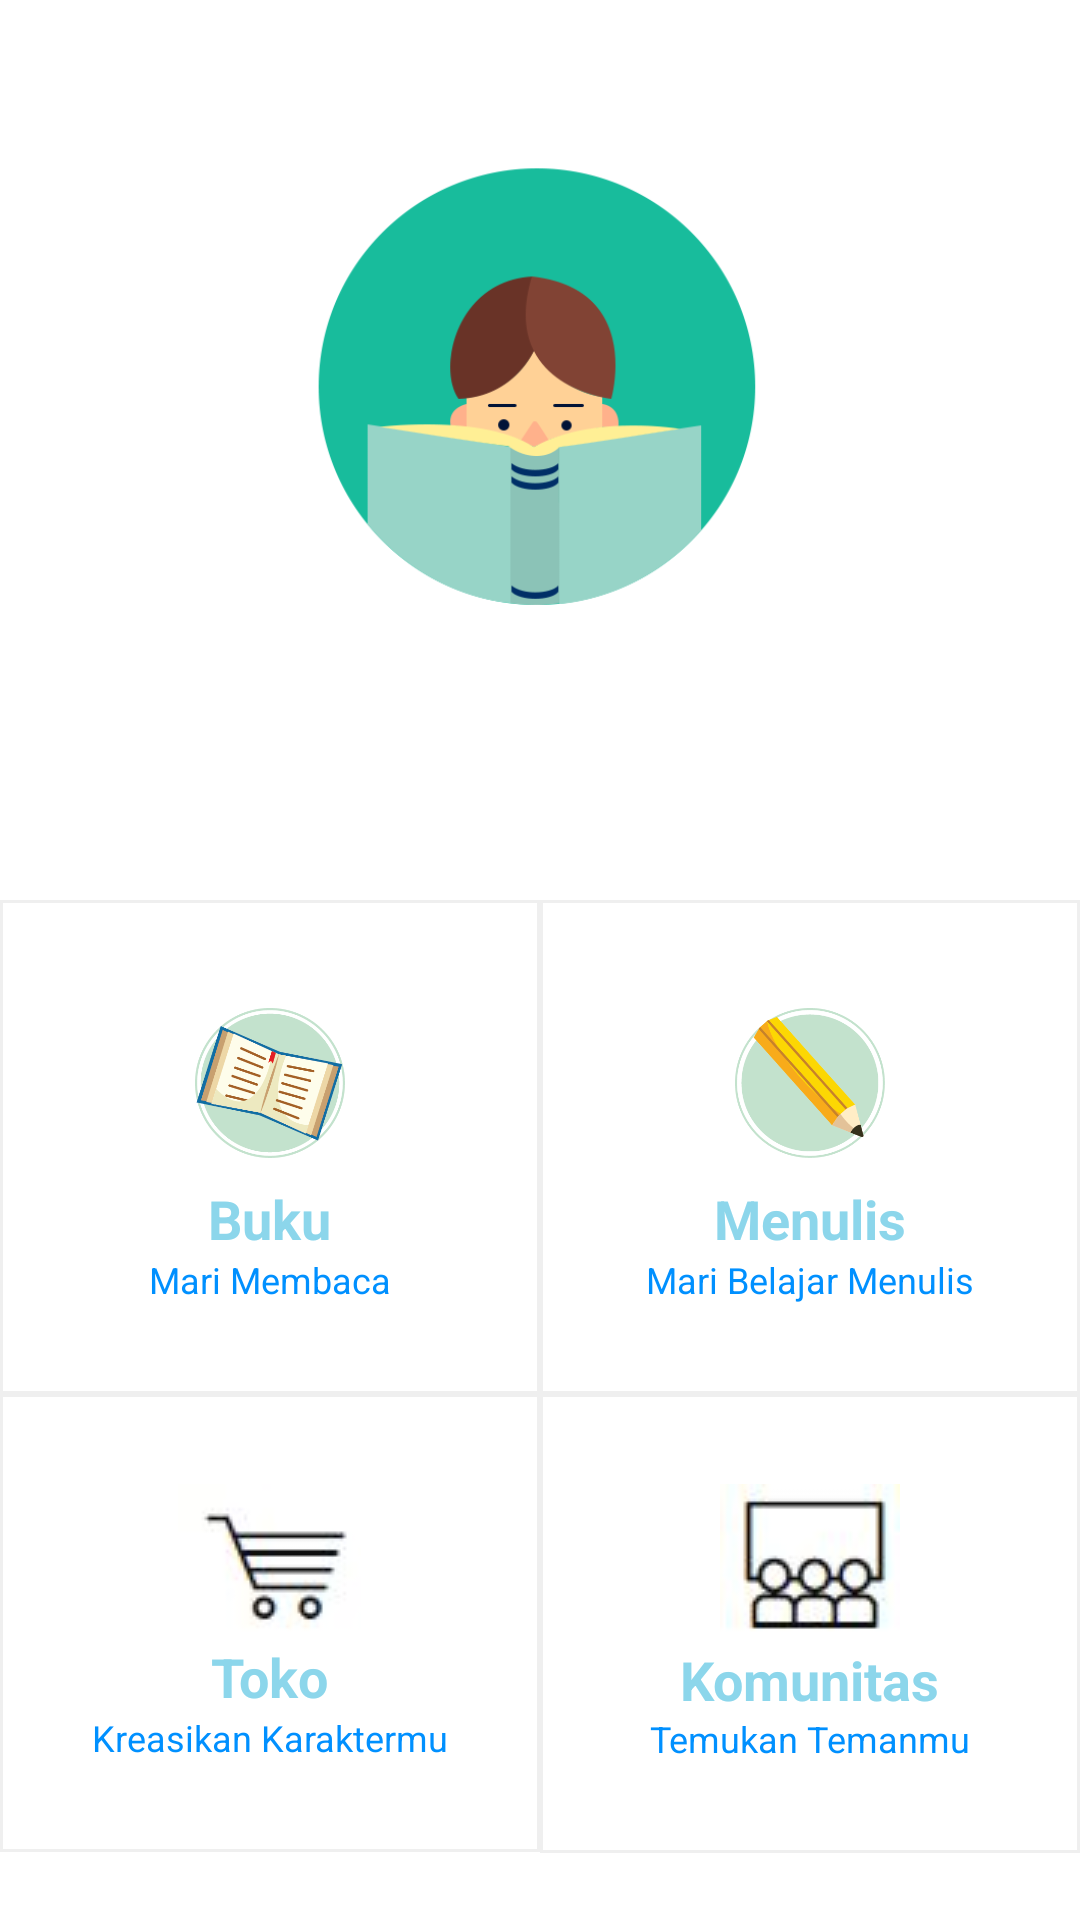

Where to tap for icons on this 1080 x 1920 app screen, as point (x, y):
home cart: point (275, 1566)
